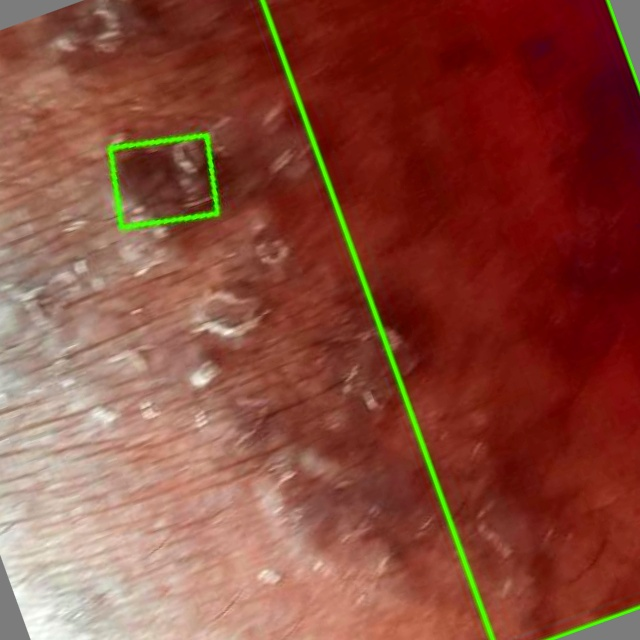Tinea Corporis: (262, 0, 639, 639), (109, 135, 217, 228)
